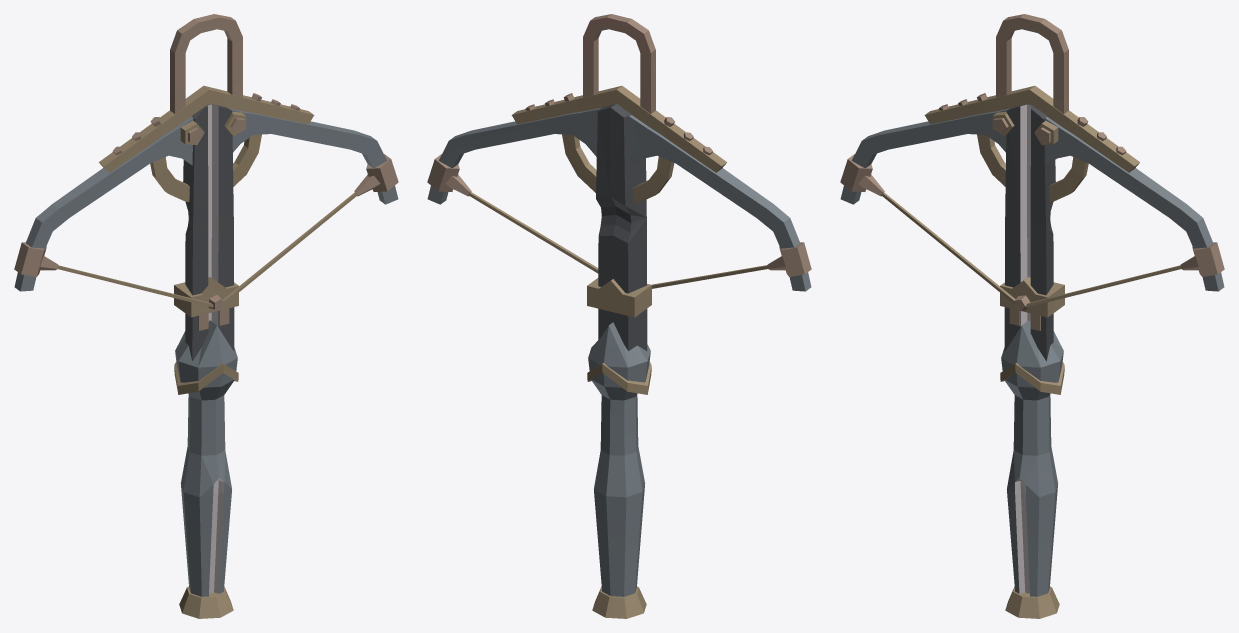
The model's file is _crossbow_16.glb.
3 views of the same model, side by side, from view 1: azimuth 30°, elevation 25°; view 2: azimuth 150°, elevation 25°; view 3: azimuth 330°, elevation 25° (orthographic).
Parts seen in each view (by area): view 1: crossbow_16; view 2: crossbow_16; view 3: crossbow_16.
Boxes of the visible parts, <box> form: crossbow_16: <box>14,14,398,618</box>; crossbow_16: <box>427,14,811,618</box>; crossbow_16: <box>840,14,1224,618</box>.
Bounding box in the file's own units: 20823 × 31005 × 3274.
1 material, 1 textured.
